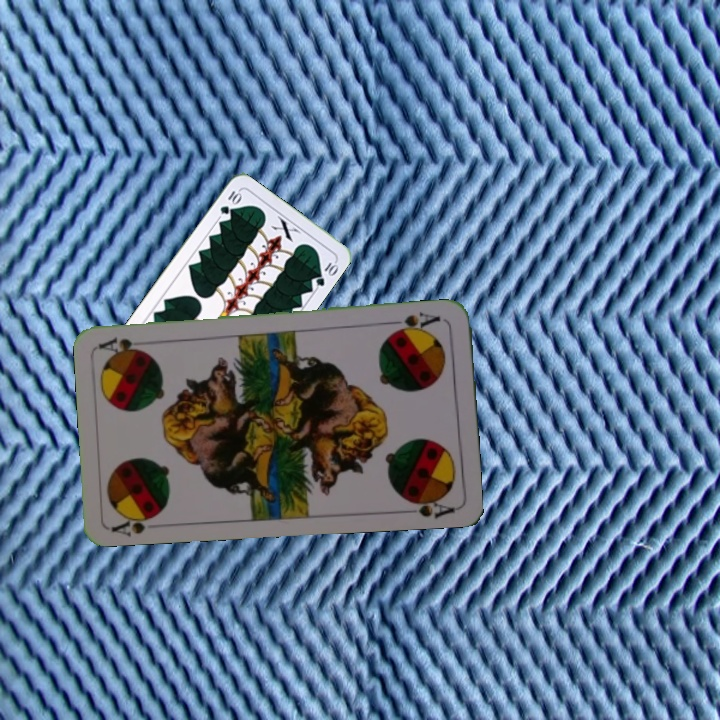G10: (216, 187, 244, 217)
SA: (108, 508, 166, 537), (387, 307, 443, 336)
